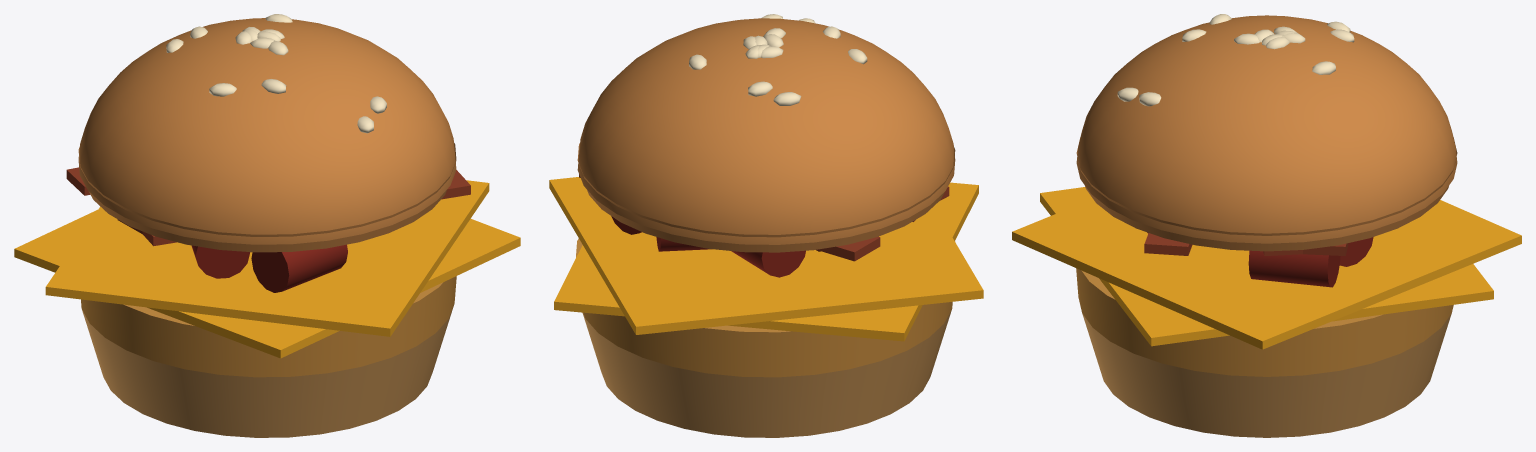
The model's file is burger-pollo-chorizo.glb.
The picture shows the model from 3 angles, left to right: view 1: azimuth 30°, elevation 25°; view 2: azimuth 150°, elevation 25°; view 3: azimuth 270°, elevation 25°; orthographic projection.
Size of the model in its own units: 0.1771 by 0.128 by 0.1771.
